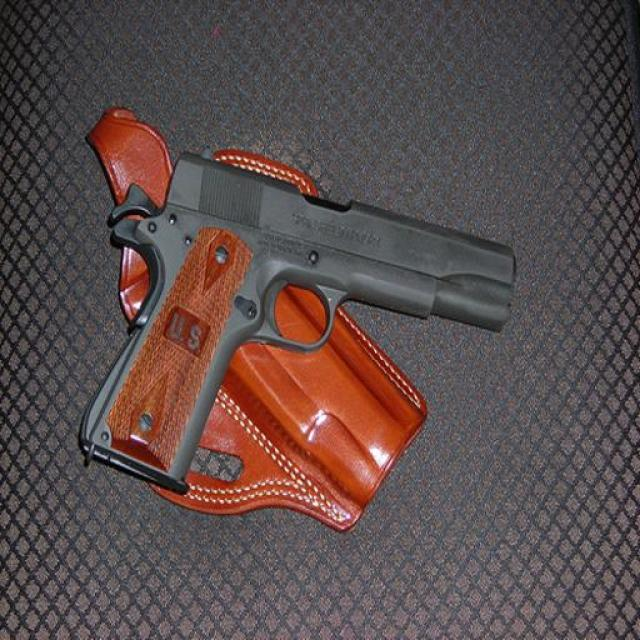pistol: (71, 145, 519, 487)
